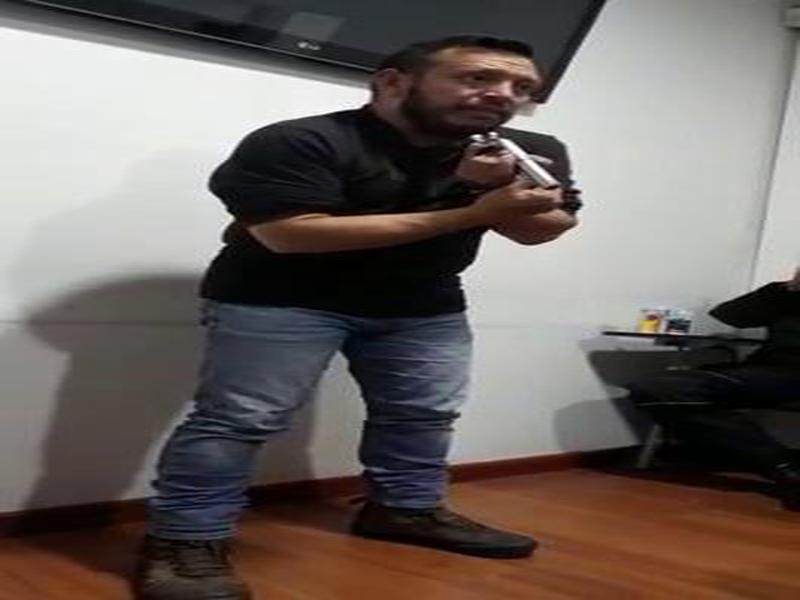Revolver: (431, 120, 576, 227)
